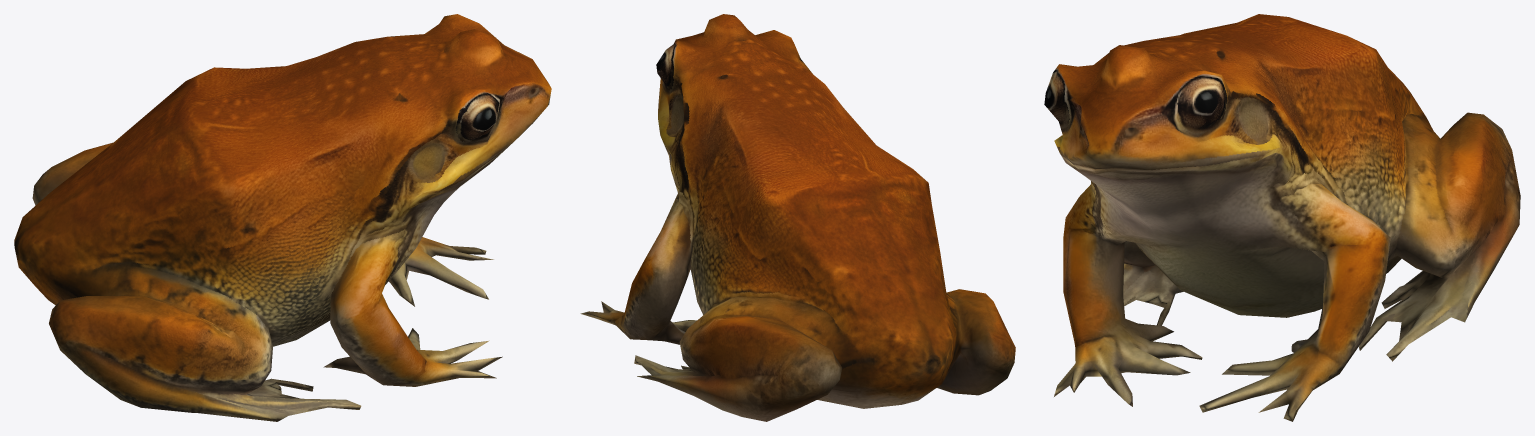
Rendered from frog_single_1500.glb.
The picture shows the model from 3 angles, left to right: view 1: azimuth 30°, elevation 25°; view 2: azimuth 150°, elevation 25°; view 3: azimuth 270°, elevation 25°; orthographic projection. The views are drawn at different scales.
Bounding box in the file's own units: 0.875 × 0.6141 × 0.7145.
1 material, 1 textured.
